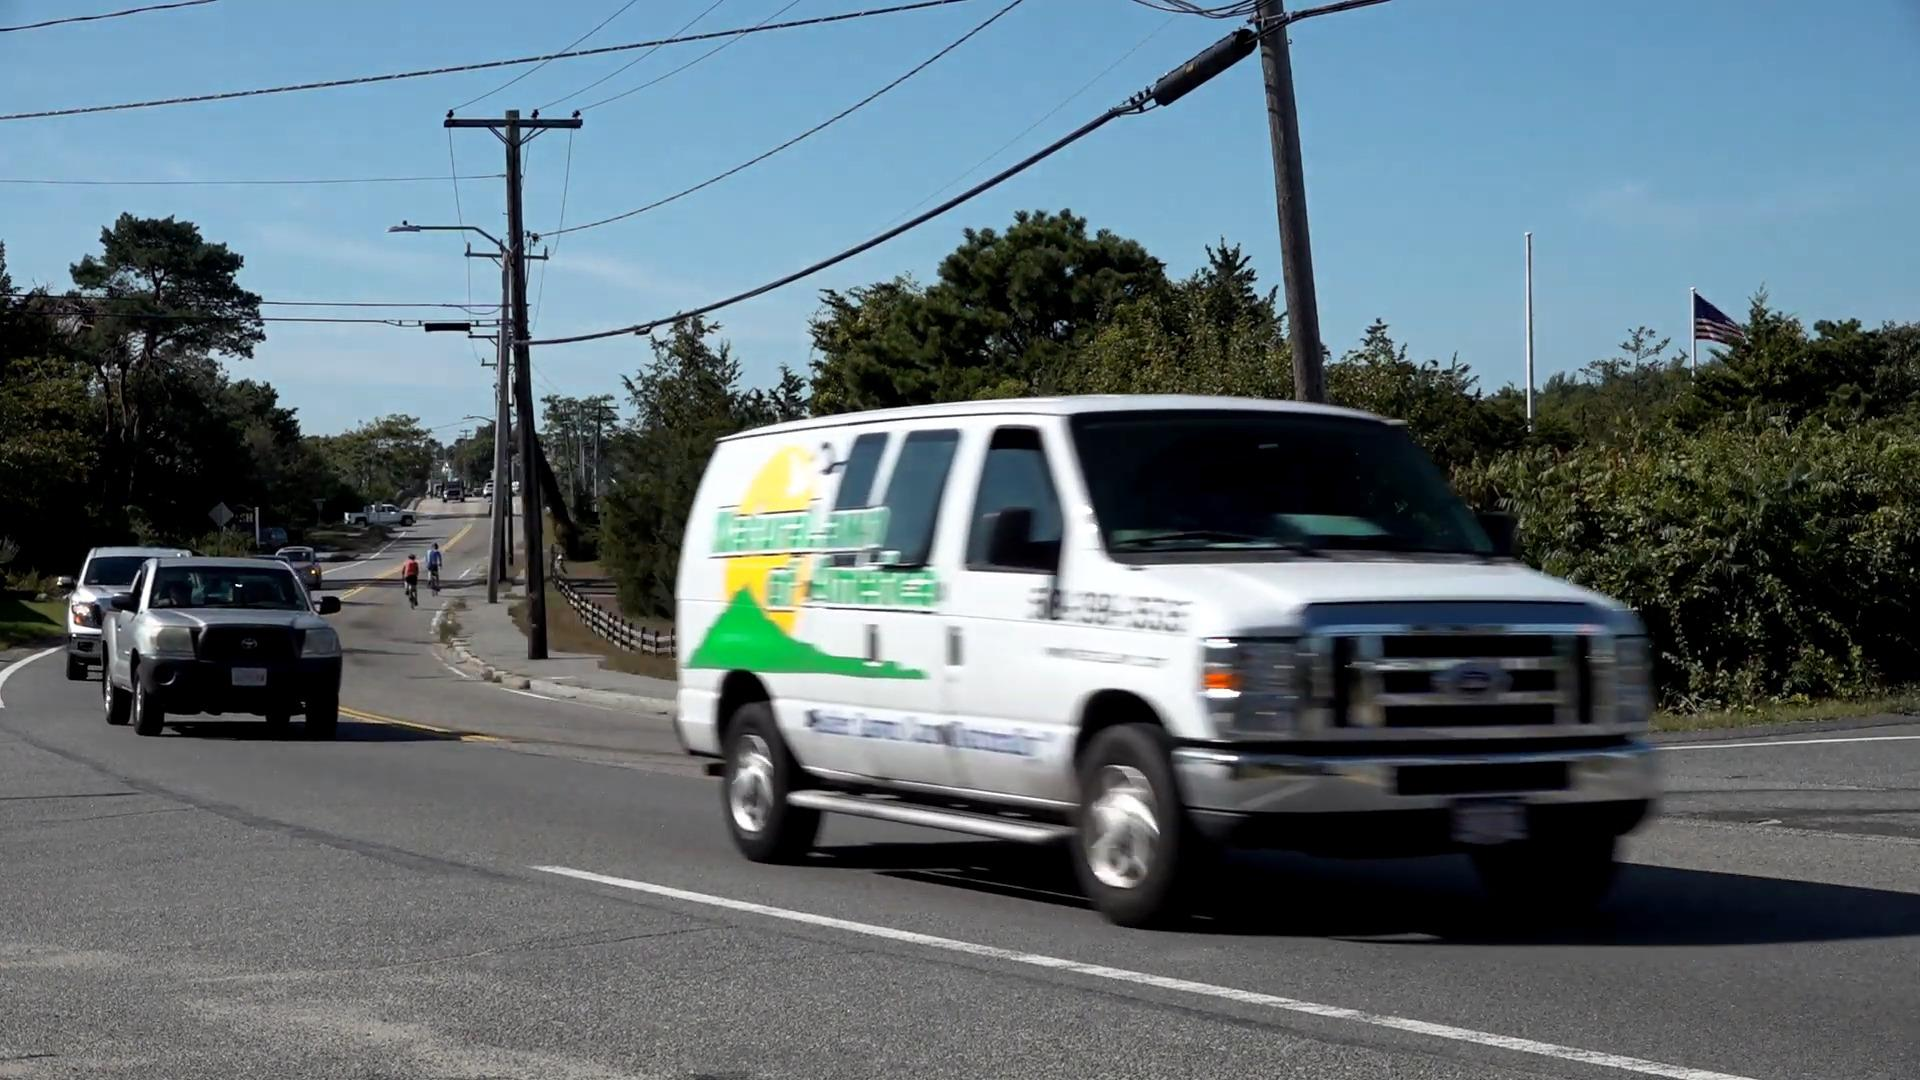minivan: (670, 394, 1664, 939)
suv: (103, 560, 345, 733)
